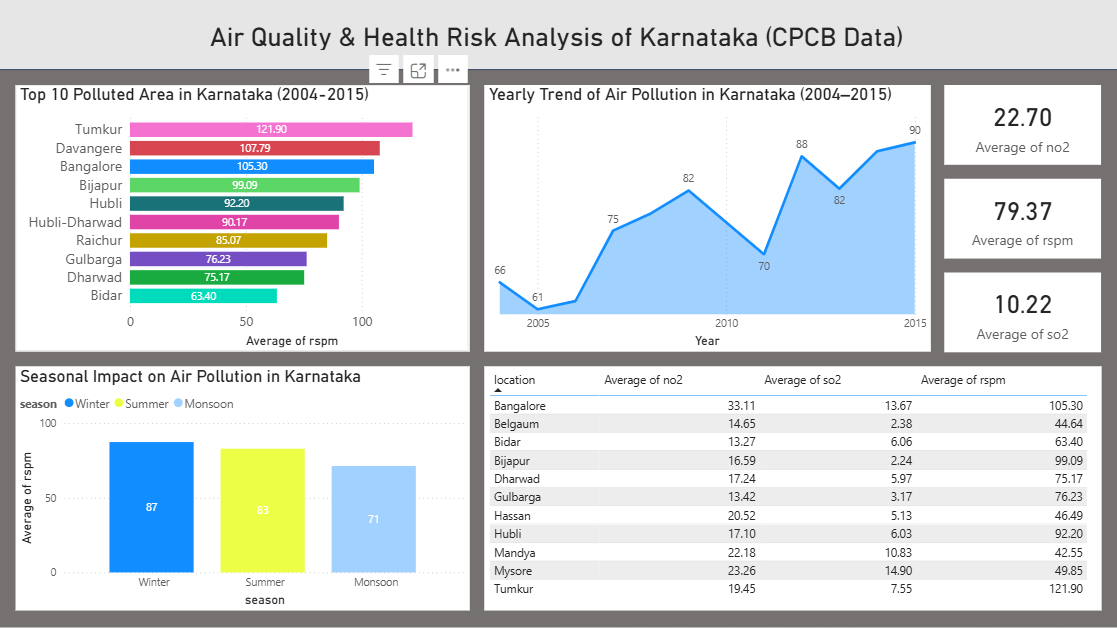

This screenshot's page, from the dashboard's own definition file:
{"tool":"powerbi","page":{"name":"Dashboard","canvas":[1280,720],"ordinal":1},"visuals":[{"type":"barChart","title":"Top 10 Polluted Area in Karnataka (2006-2014)","fields":{"Category":["karnataka_air_quality.location"],"Y":["Avg(karnataka_air_quality.rspm)"],"Series":["karnataka_air_quality.location"]},"box":[20,96.9,518.8,305],"z":0},{"type":"card","fields":{"Values":["Avg(karnataka_air_quality.rspm)"]},"box":[1081.9,203.8,179.6,91.2],"z":1000},{"type":"card","fields":{"Values":["Avg(karnataka_air_quality.no2)"]},"box":[1081.9,96.9,179.6,91.2],"z":2000},{"type":"card","fields":{"Values":["Avg(karnataka_air_quality.so2)"]},"box":[1081.9,310.7,179.6,91.2],"z":3000},{"type":"columnChart","title":"Seasonal Impact on Air Pollution in Karnataka","fields":{"Category":["karnataka_air_quality.season"],"Y":["Avg(karnataka_air_quality.rspm)"],"Series":["karnataka_air_quality.season"]},"box":[20,419.1,518.8,279.4],"z":4000},{"type":"areaChart","title":"Yearly Trend of Air Pollution in Karnataka (2004–2015)","fields":{"Category":["karnataka_air_quality.date.Variation.Date Hierarchy.Year","karnataka_air_quality.date.Variation.Date Hierarchy.Quarter","karnataka_air_quality.date.Variation.Date Hierarchy.Month","karnataka_air_quality.date.Variation.Date Hierarchy.Day"],"Y":["Avg(karnataka_air_quality.rspm)"]},"box":[555.9,96.9,510.3,305],"z":5000},{"type":"textbox","title":"Air Quality & Health Risk Analysis of Karnataka (CPCB Data)","box":[236.6,24.2,805.3,32.8],"z":7000},{"type":"tableEx","fields":{"Values":["karnataka_air_quality.location","Avg(karnataka_air_quality.no2)","Avg(karnataka_air_quality.so2)","Avg(karnataka_air_quality.rspm)"]},"box":[555.9,419.1,705.6,279.4],"z":8000}]}

Visuals, with their boxes in screenshot pixels (x1, y1, x2, y2), scaled from the page's 1280x720 canvas onto the 1117x628 screenshot:
"Top 10 Polluted Area in Karnataka (2006-2014)" barChart: (x1=17, y1=85, x2=470, y2=351)
card - Avg(karnataka_air_quality.rspm): (x1=944, y1=178, x2=1101, y2=257)
card - Avg(karnataka_air_quality.no2): (x1=944, y1=85, x2=1101, y2=164)
card - Avg(karnataka_air_quality.so2): (x1=944, y1=271, x2=1101, y2=351)
"Seasonal Impact on Air Pollution in Karnataka" columnChart: (x1=17, y1=366, x2=470, y2=609)
"Yearly Trend of Air Pollution in Karnataka (2004–2015)" areaChart: (x1=485, y1=85, x2=930, y2=351)
"Air Quality & Health Risk Analysis of Karnataka (CPCB Data)" textbox: (x1=206, y1=21, x2=909, y2=50)
tableEx - karnataka_air_quality.location x Avg(karnataka_air_quality.no2): (x1=485, y1=366, x2=1101, y2=609)
